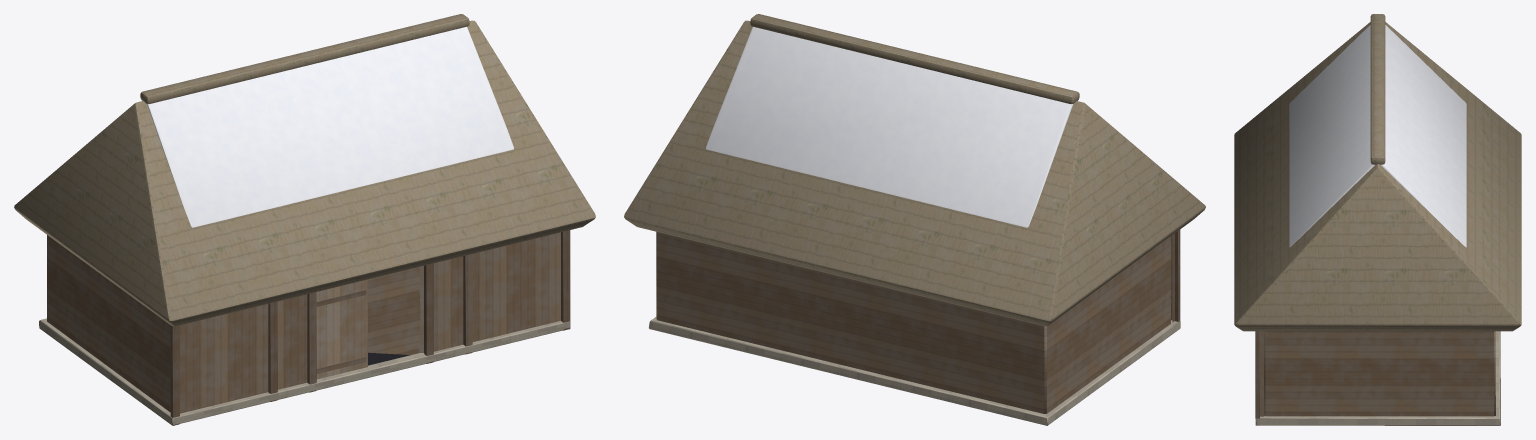
The model's file is farm_barn.glb.
3 renders of one model, left to right at view 1: azimuth 30°, elevation 25°; view 2: azimuth 150°, elevation 25°; view 3: azimuth 270°, elevation 25°, orthographic. The views are drawn at different scales.
Parts seen in each view (by area): view 1: farm_barn; view 2: farm_barn; view 3: farm_barn.
Boxes of the visible parts, box(x1,y1,x2,y2) form: farm_barn: box(14, 14, 595, 425); farm_barn: box(624, 14, 1205, 425); farm_barn: box(1234, 14, 1521, 425).
Size of what is drawn, in the model's own units: 15.36 by 9.4 by 9.74.
8 materials, 7 textured.
